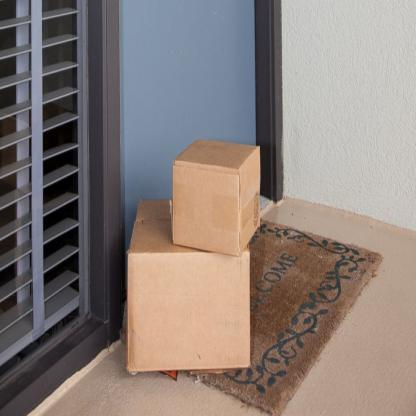package: (127, 195, 253, 377), (172, 138, 262, 257)
